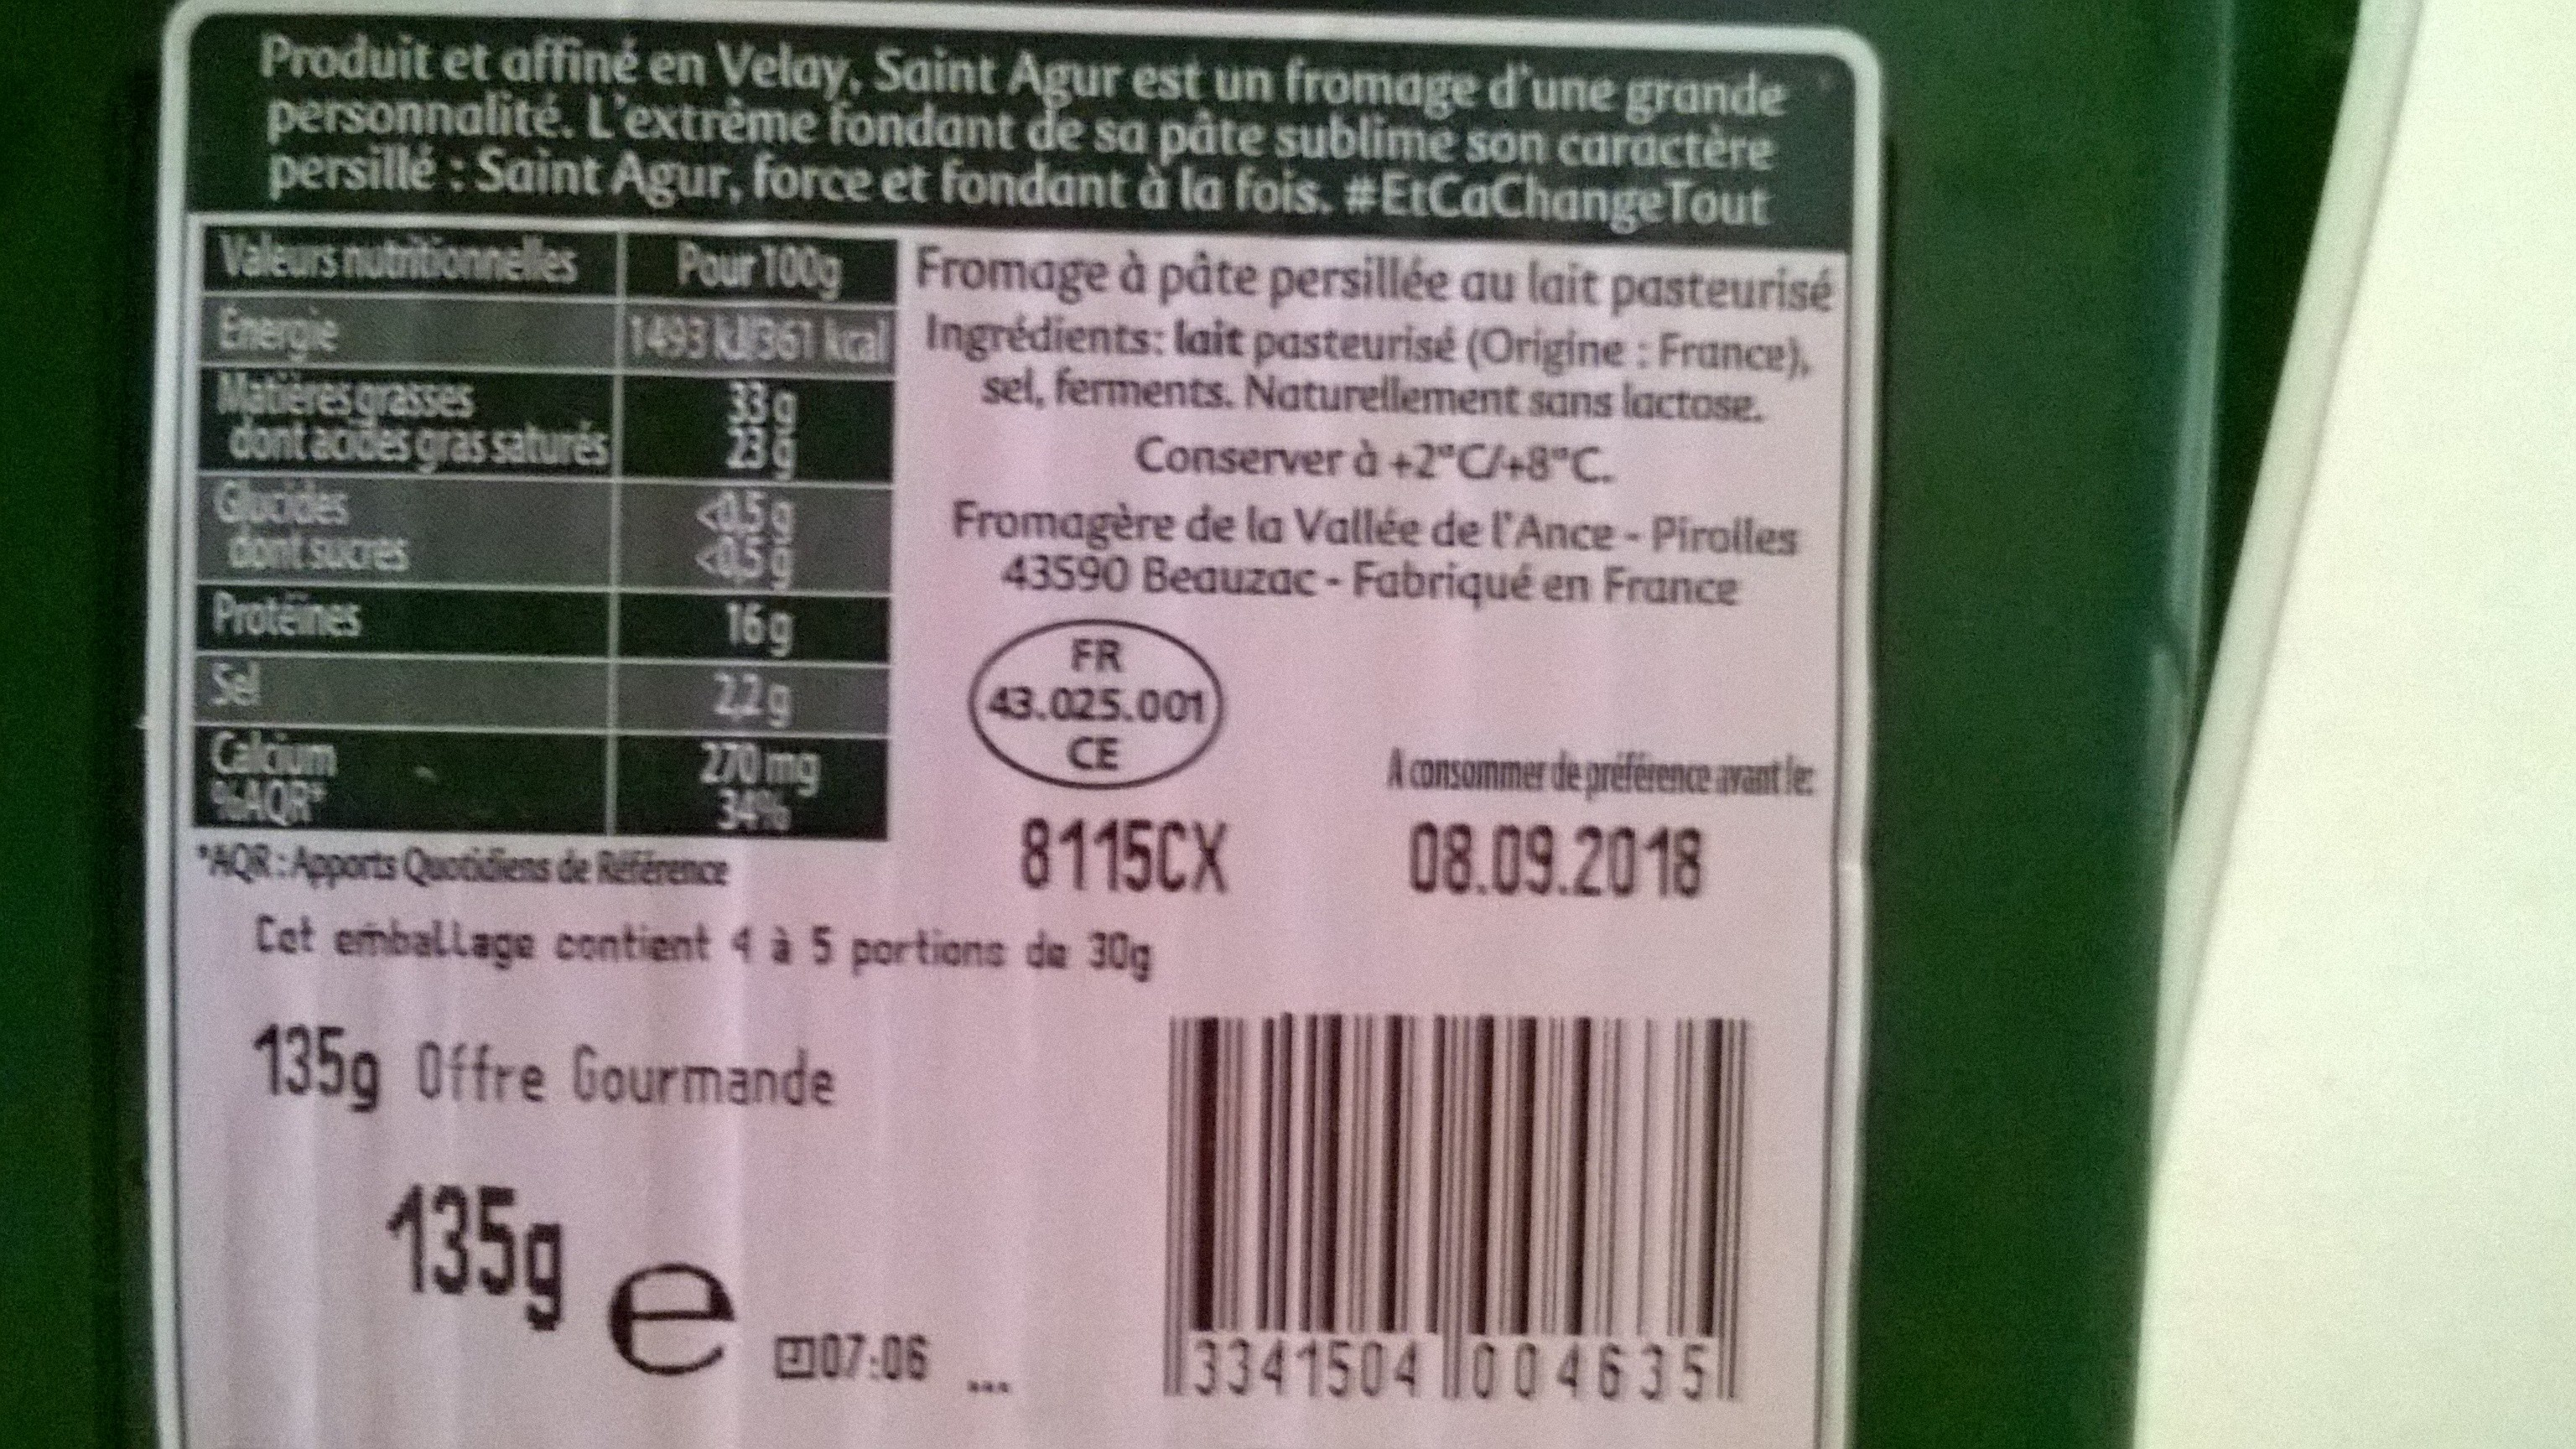column: (207, 211, 607, 842), (635, 209, 890, 840)
table: (188, 207, 902, 844)
